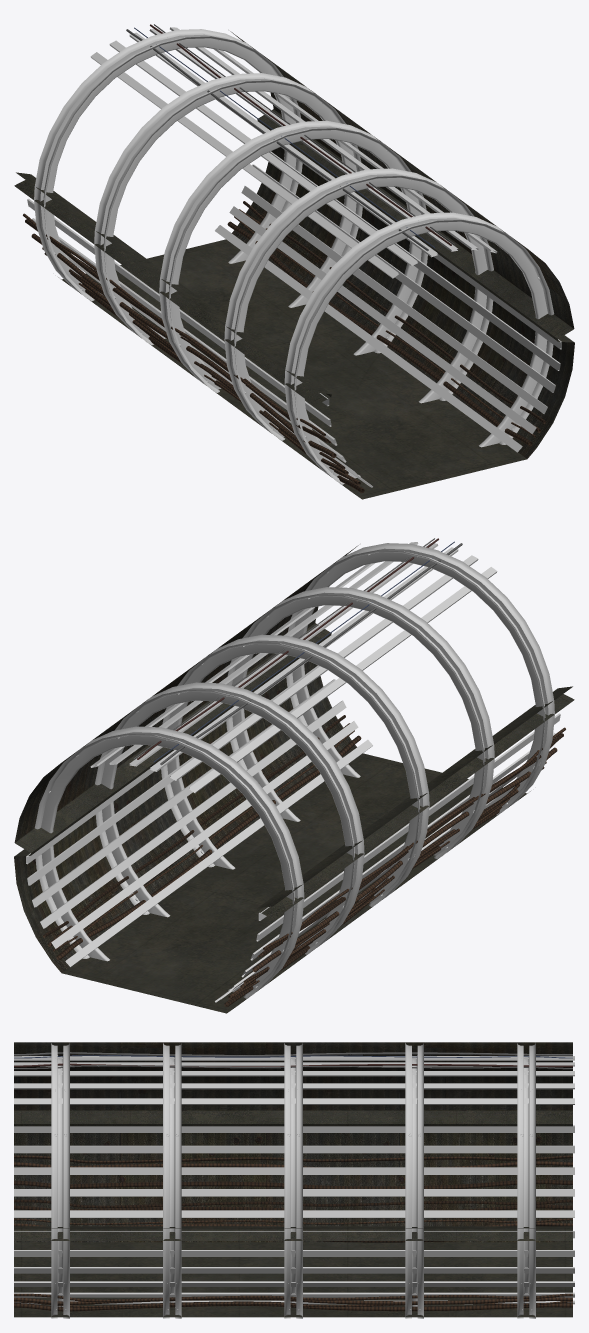
File: tunnel_1.obj
3 views of the same model, one above another, from view 1: azimuth 30°, elevation 25°; view 2: azimuth 150°, elevation 25°; view 3: azimuth 270°, elevation 25° (orthographic). The views are drawn at different scales.
Parts seen in each view (by area): view 1: tunnel_1; view 2: tunnel_1; view 3: tunnel_1.
Part boxes in pixels (x1,y1,x2,y2): tunnel_1: (14, 24, 574, 499); tunnel_1: (14, 538, 574, 1013); tunnel_1: (14, 1042, 574, 1318).
Bounding box in the file's own units: 3 × 2.69 × 6.02.
